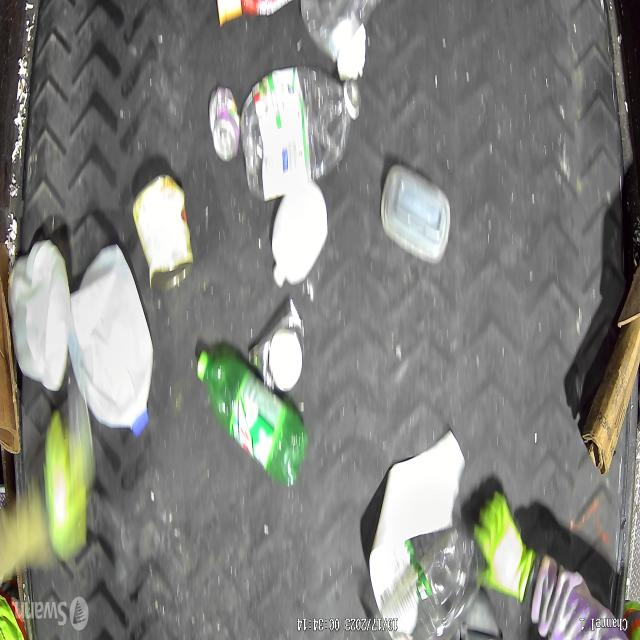can: (132, 173, 194, 291), (247, 300, 304, 394), (208, 84, 240, 164)
milk_jug: (65, 240, 154, 438), (7, 239, 71, 395)
plastic_bottle: (242, 64, 360, 200)
